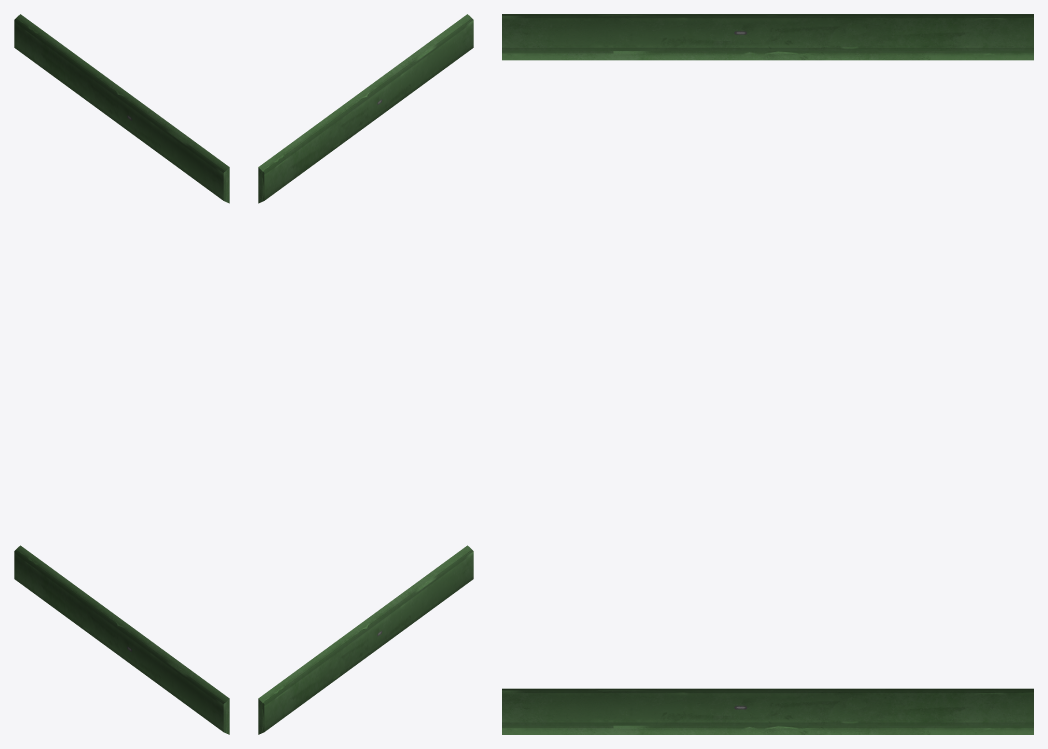
Rendered from MB_Molding_F_2m.fbx.
3 views of the same model, side by side, from view 1: azimuth 30°, elevation 25°; view 2: azimuth 150°, elevation 25°; view 3: azimuth 270°, elevation 25° (orthographic). The views are drawn at different scales.
Parts seen in each view (by area): view 1: MB_Molding_2m_F; view 2: MB_Molding_2m_F; view 3: MB_Molding_2m_F.
Part boxes in pixels (left/top/right/bottom): MB_Molding_2m_F: left=14, top=14, right=229, bottom=734; MB_Molding_2m_F: left=258, top=14, right=473, bottom=734; MB_Molding_2m_F: left=502, top=14, right=1033, bottom=734.
Size of the model in its own units: 3.42 by 299 by 200.
